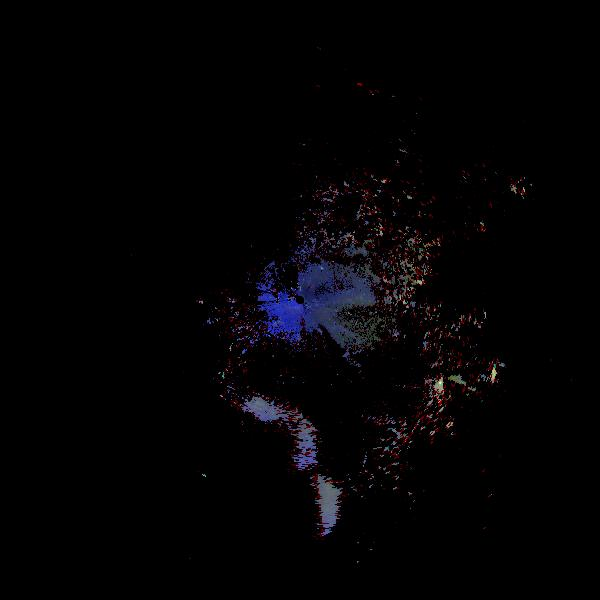roost: (239, 400, 323, 484)
